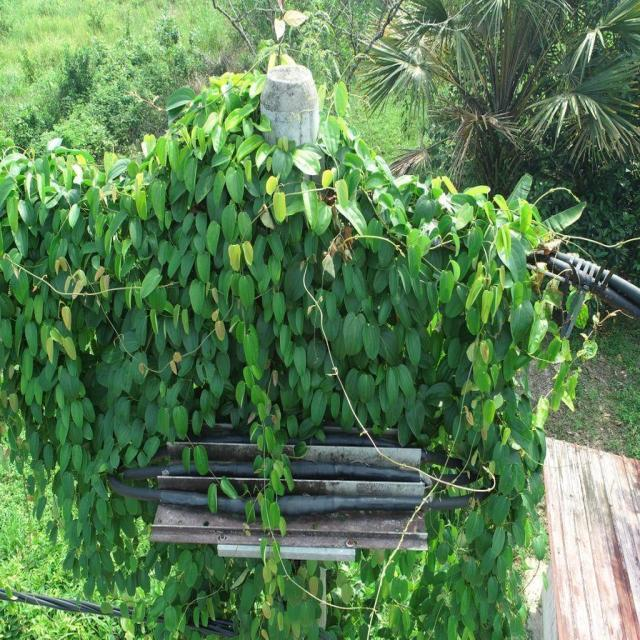critical vegetation: (17, 46, 594, 568)
